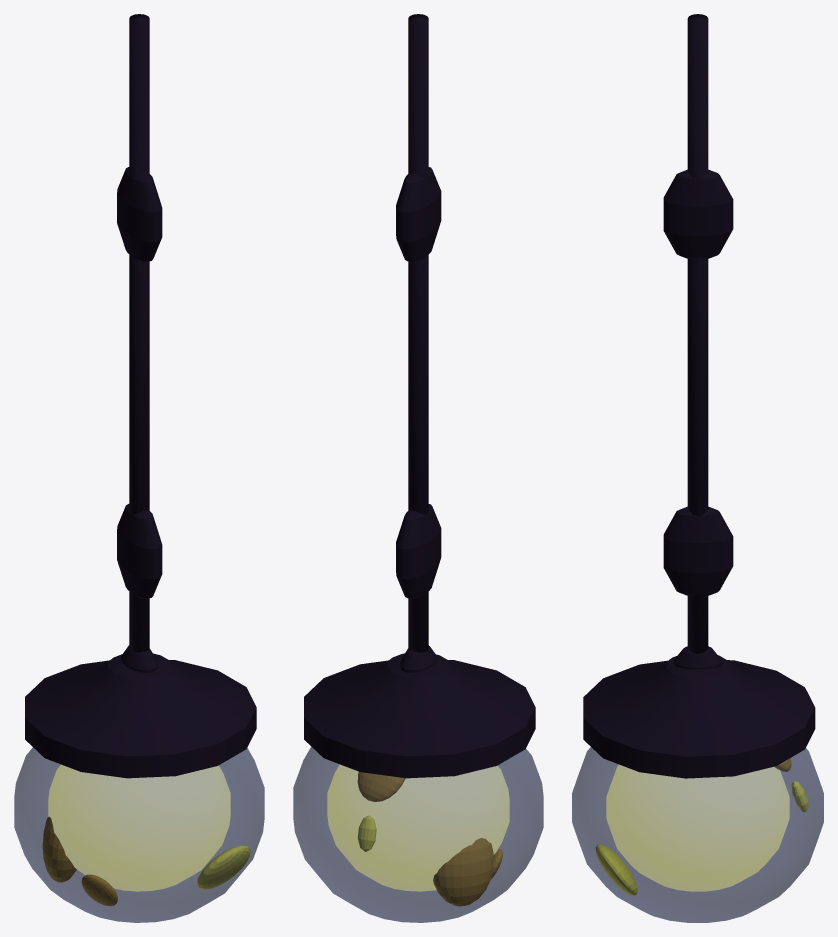
File: Hanging_SlugLights.fbx
3 renders of one model, left to right at view 1: azimuth 30°, elevation 25°; view 2: azimuth 150°, elevation 25°; view 3: azimuth 270°, elevation 25°, orthographic.
Visible parts, largest first — view 1: Sphere, Sphere.008, Sphere.001, Cylinder, Sphere.010, Sphere.009, Sphere.003, Sphere.007, Sphere.004, Sphere.005; view 2: Sphere, Sphere.008, Sphere.001, Cylinder, Sphere.010, Sphere.009, Sphere.007, Sphere.002, Sphere.005, Sphere.006; view 3: Sphere, Sphere.008, Sphere.001, Cylinder, Sphere.009, Sphere.010, Sphere.003, Sphere.005.
Part boxes in pixels (bbox=[...]): Sphere: bbox=[14, 747, 264, 922]; Sphere.008: bbox=[25, 653, 256, 778]; Sphere.001: bbox=[48, 764, 230, 891]; Cylinder: bbox=[129, 14, 149, 652]; Sphere.010: bbox=[117, 167, 162, 262]; Sphere.009: bbox=[117, 504, 162, 598]; Sphere.003: bbox=[197, 845, 250, 889]; Sphere.007: bbox=[42, 817, 76, 882]; Sphere.004: bbox=[81, 874, 117, 906]; Sphere.005: bbox=[120, 645, 157, 672]; Sphere: bbox=[293, 747, 543, 922]; Sphere.008: bbox=[304, 653, 535, 778]; Sphere.001: bbox=[327, 764, 509, 891]; Cylinder: bbox=[408, 14, 428, 652]; Sphere.010: bbox=[396, 167, 441, 261]; Sphere.009: bbox=[396, 504, 441, 598]; Sphere.007: bbox=[433, 838, 493, 906]; Sphere.002: bbox=[357, 772, 405, 801]; Sphere.005: bbox=[399, 645, 436, 672]; Sphere.006: bbox=[358, 815, 376, 851]; Sphere: bbox=[572, 747, 823, 922]; Sphere.008: bbox=[583, 655, 815, 778]; Sphere.001: bbox=[606, 764, 789, 891]; Cylinder: bbox=[687, 14, 708, 653]; Sphere.009: bbox=[663, 506, 733, 595]; Sphere.010: bbox=[663, 169, 733, 258]; Sphere.003: bbox=[595, 844, 637, 895]; Sphere.005: bbox=[674, 646, 722, 669].
Size of the model in its own units: 510 by 2012 by 515.
